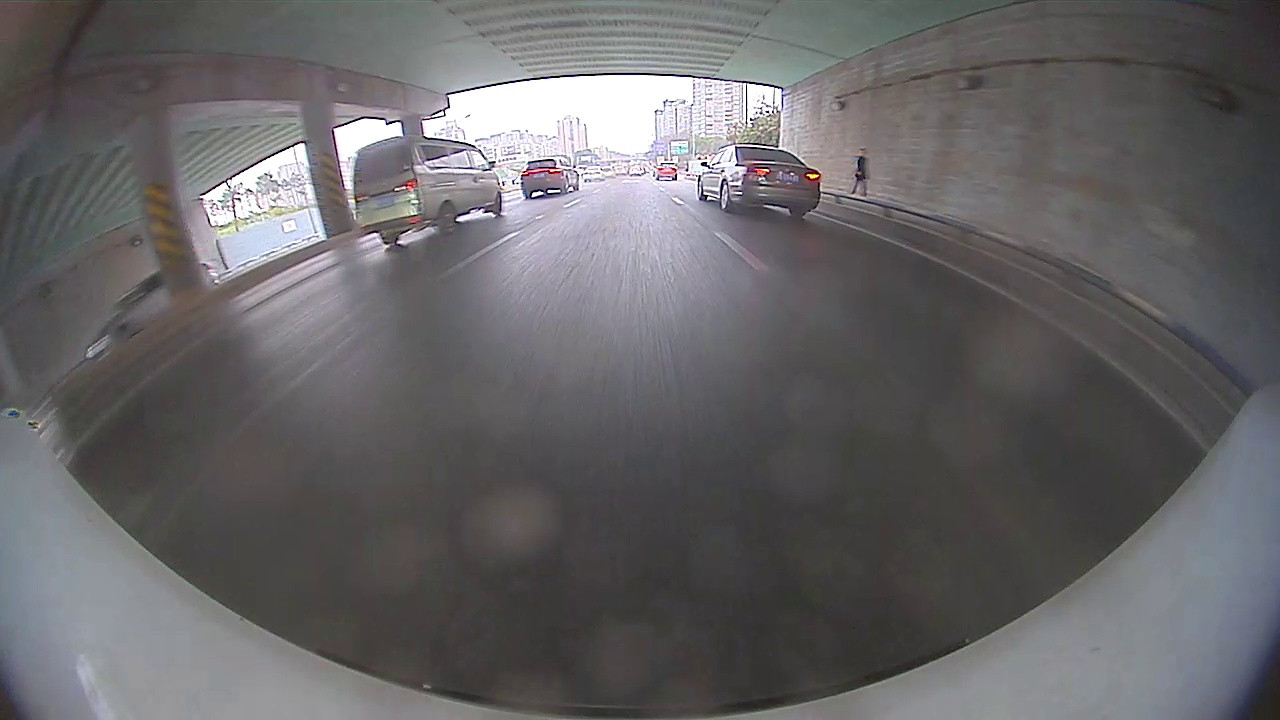car: (350, 134, 504, 250), (82, 259, 225, 366), (695, 142, 824, 221), (518, 153, 582, 200)
front: (696, 175, 707, 200)
person: (855, 146, 871, 199)
rear: (718, 181, 731, 213)
